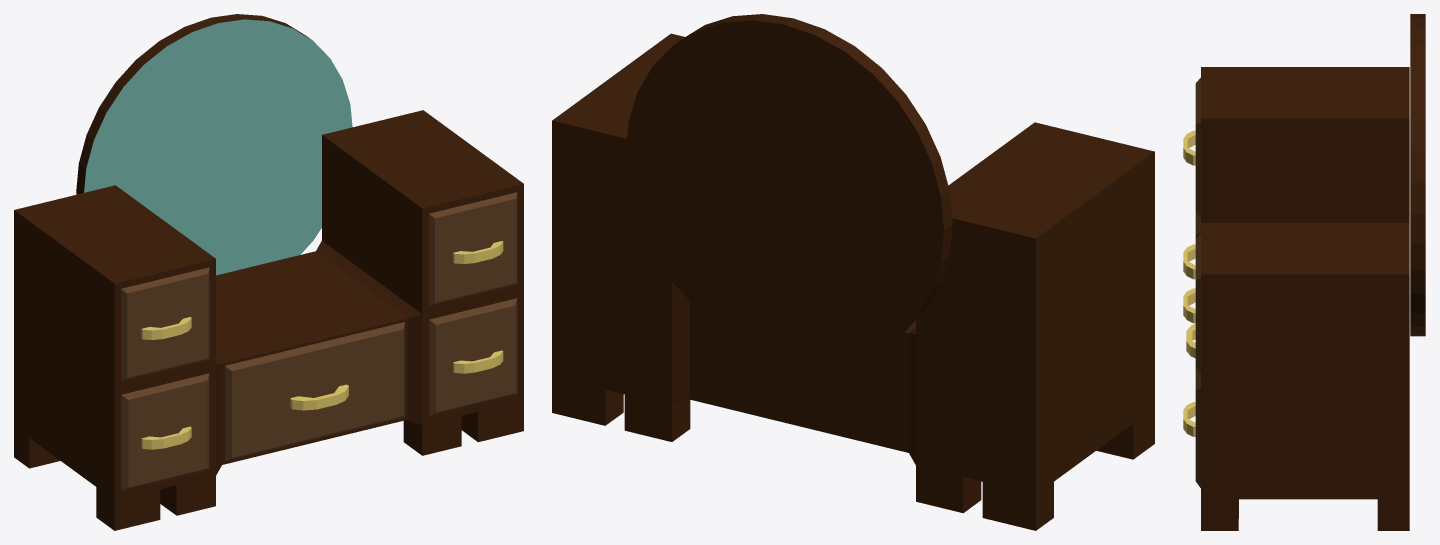
Rendered from MakeUP_V2.fbx.
3 views of the same model, side by side, from view 1: azimuth 30°, elevation 25°; view 2: azimuth 150°, elevation 25°; view 3: azimuth 270°, elevation 25° (orthographic). The views are drawn at different scales.
Parts seen in each view (by area): view 1: MakeUp_V_2; view 2: MakeUp_V_2; view 3: MakeUp_V_2.
Boxes of the visible parts, <box> form: MakeUp_V_2: <box>14,14,523,530</box>; MakeUp_V_2: <box>552,14,1154,530</box>; MakeUp_V_2: <box>1183,14,1425,530</box>.
Bounding box in the file's own units: 397 × 356 × 196.
